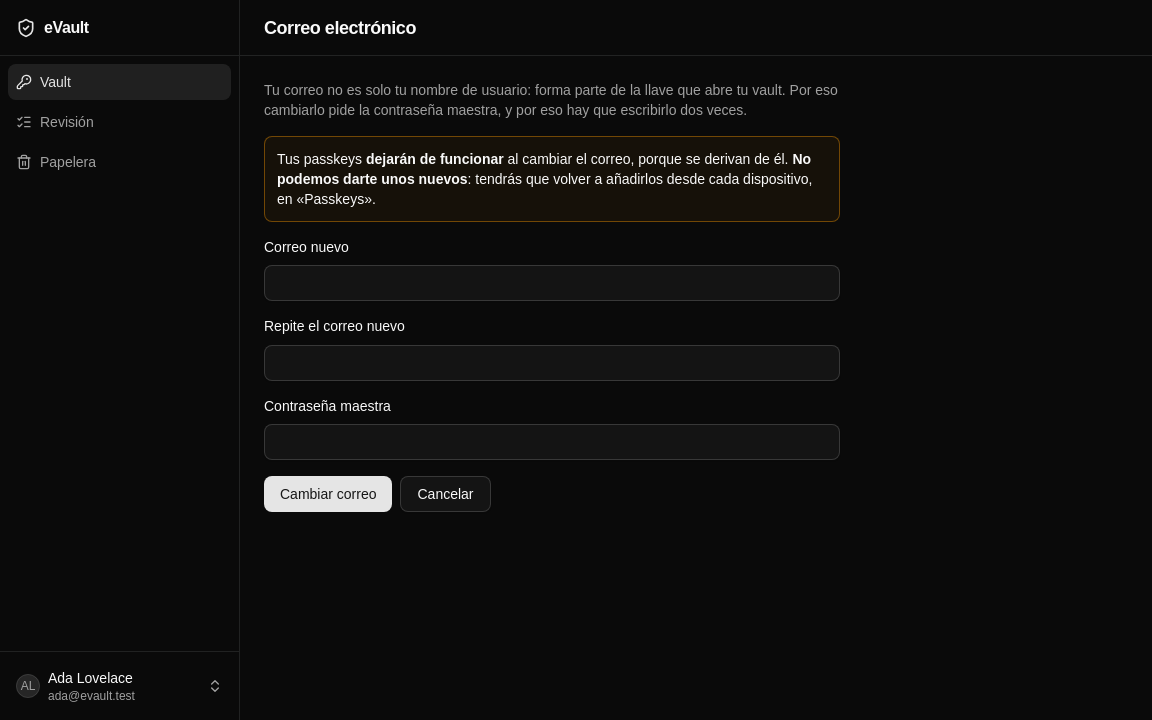
Test: changing the email › asks for the email twice and does not let one carry on when they differ
Type "ada.lovelace@evault.test" into the field labelled "Correo nuevo" at (552, 283), box [264, 265, 840, 301]
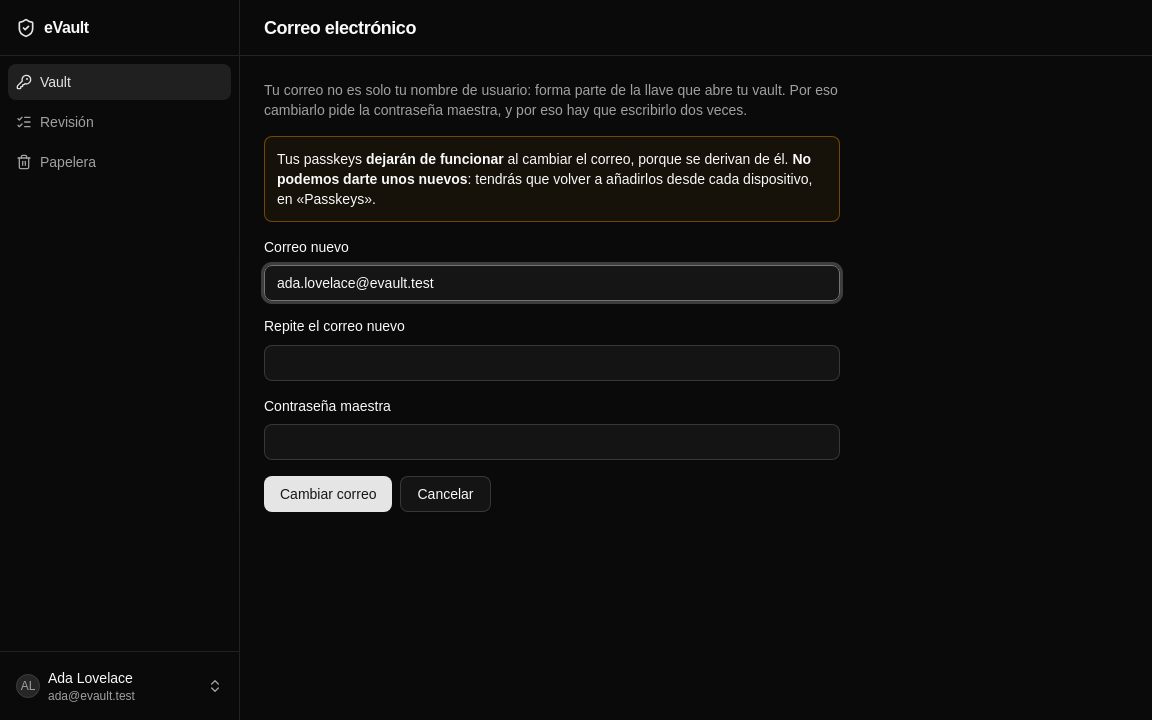
Type "ada.lovelance@evault.test" into the field labelled "Repite el correo nuevo" at (552, 362), box [264, 344, 840, 380]
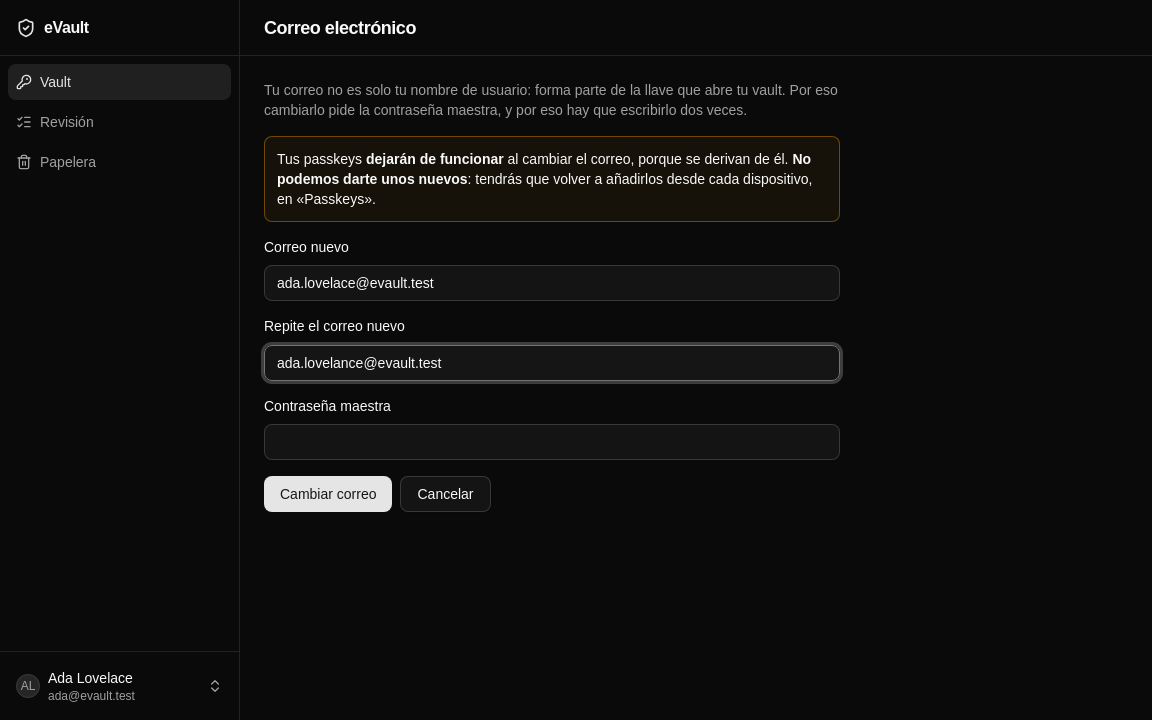
Type "la contraseña" into the password field labelled "Contraseña maestra" at (552, 442), box [264, 424, 840, 460]
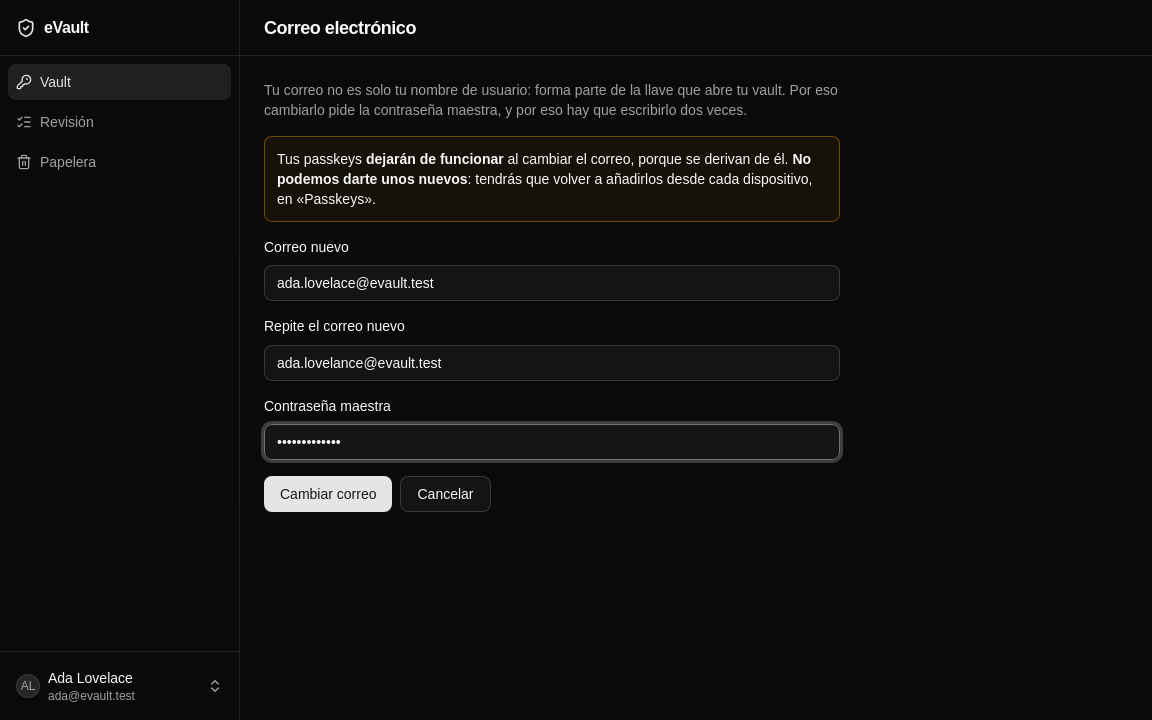
Click the button "Cambiar correo" at (328, 494), box [264, 476, 392, 512]
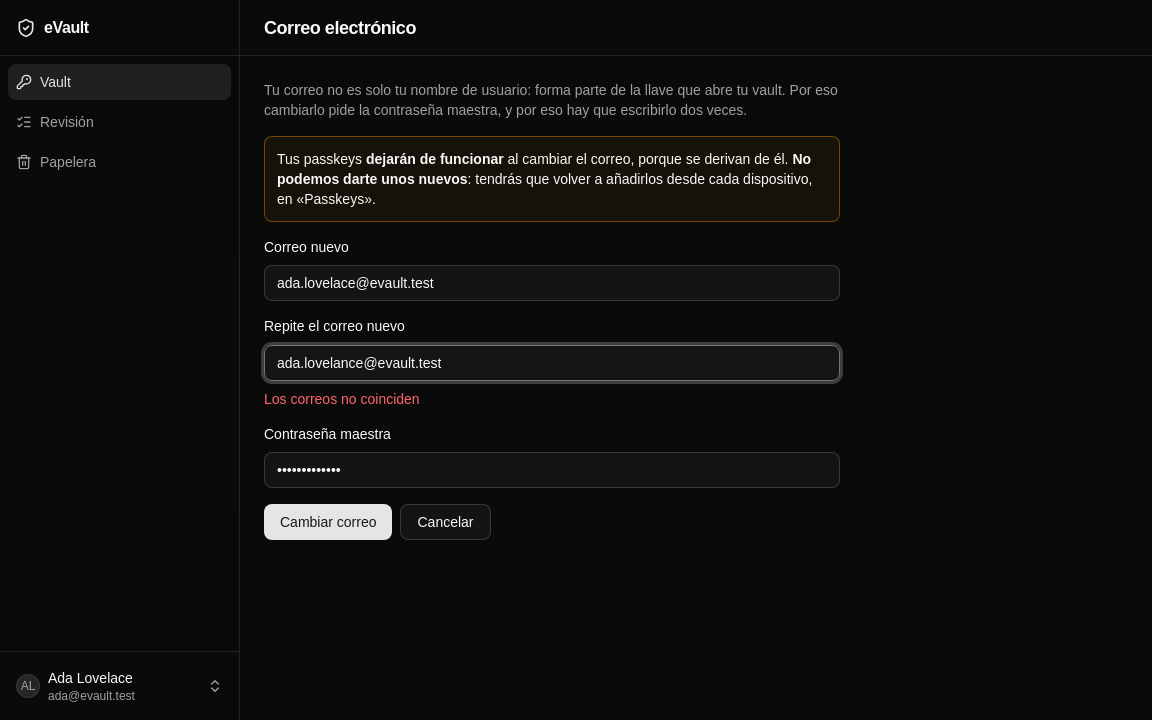
Check: the text "Los correos no coinciden" is shown, box [264, 390, 420, 406]
